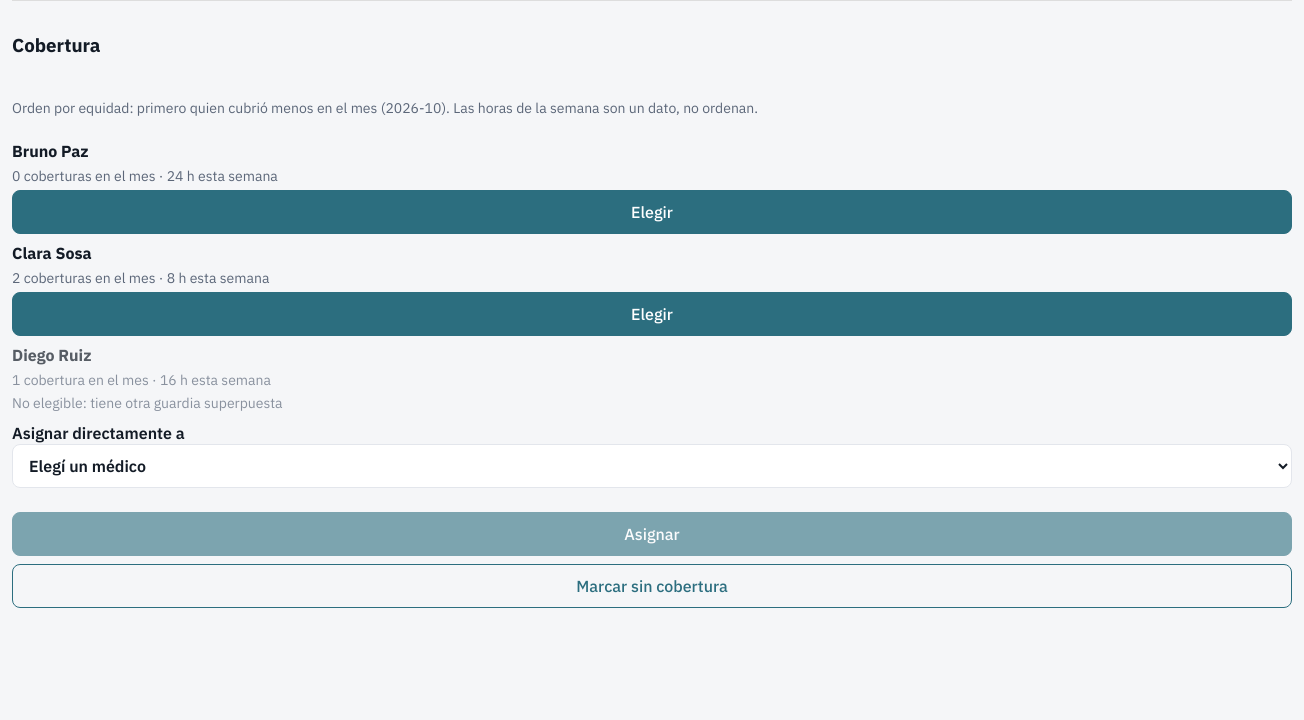
Test case: PanelCobertura › otro error de asignación se muestra y no ofrece reasignar
The width and height of the screenshot is (1304, 720).
Click the button "Elegir" below "Bruno Paz" at (652, 212), box left=12, top=190, right=1292, bottom=234
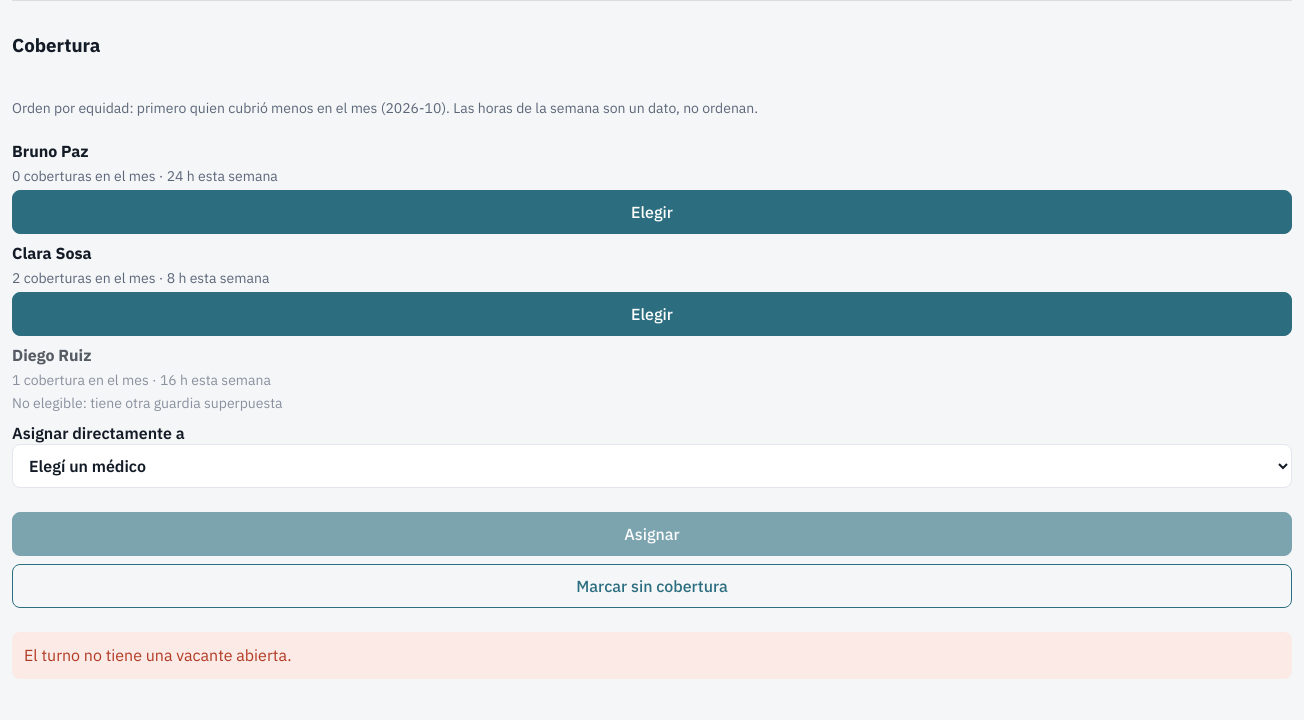
Check: the message shows "no tiene una vacante abierta", box left=24, top=645, right=292, bottom=665
